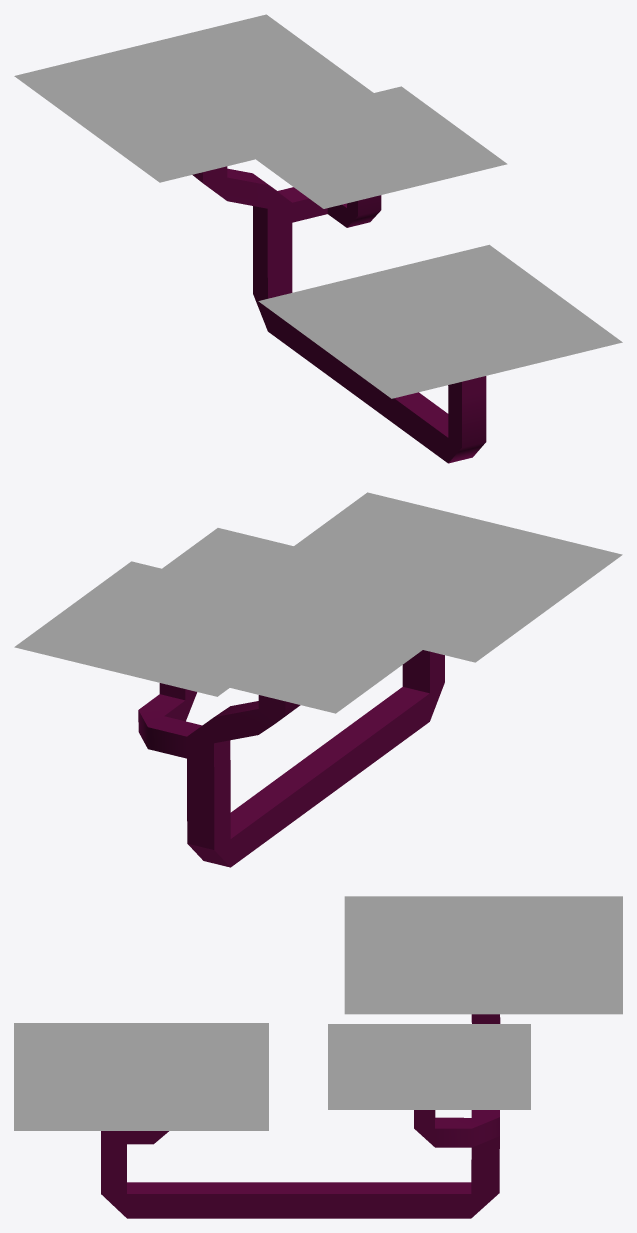
File: step_L.fbx
3 renders of one model, top to bottom at view 1: azimuth 30°, elevation 25°; view 2: azimuth 150°, elevation 25°; view 3: azimuth 270°, elevation 25°, orthographic. The views are drawn at different scales.
Parts seen in each view (by area): view 1: steps_L; view 2: steps_L; view 3: steps_L.
Part boxes in pixels (left/top/right/bottom): steps_L: left=14, top=14, right=622, bottom=463; steps_L: left=14, top=492, right=622, bottom=867; steps_L: left=14, top=896, right=622, bottom=1218.
Bounding box in the file's own units: 7.59 × 5.13 × 12.34.
